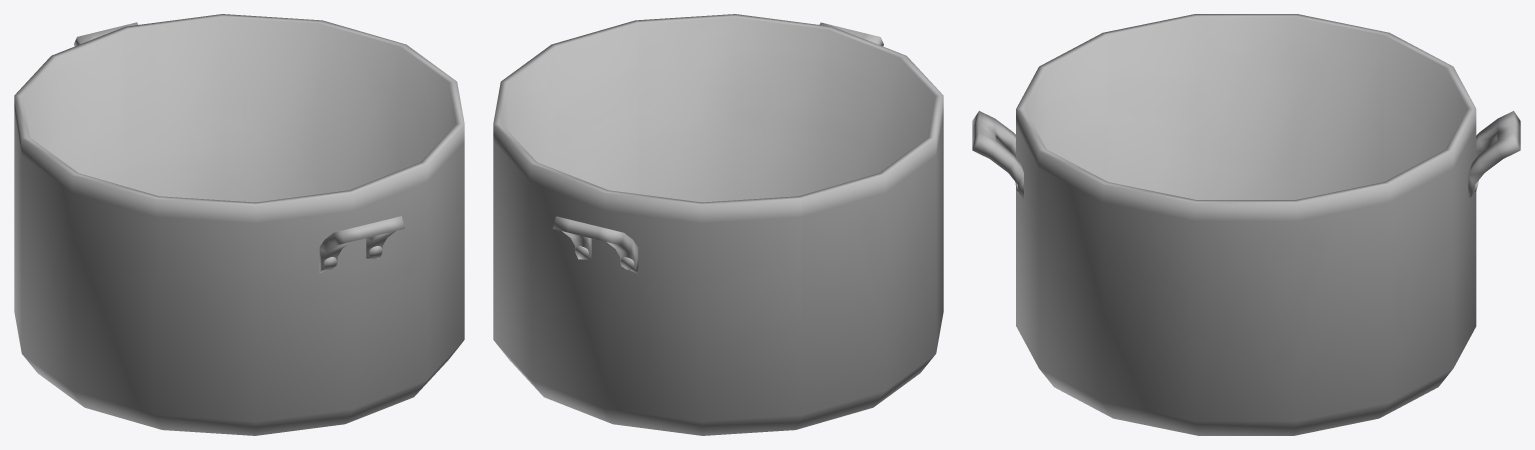
Rendered from SmallPot.fbx.
3 views of the same model, side by side, from view 1: azimuth 30°, elevation 25°; view 2: azimuth 150°, elevation 25°; view 3: azimuth 270°, elevation 25° (orthographic).
Visible parts, largest first — view 1: pot.005; view 2: pot.005; view 3: pot.005.
Part boxes in pixels (bbox=[...]): pot.005: bbox=[14, 14, 464, 435]; pot.005: bbox=[493, 14, 943, 435]; pot.005: bbox=[972, 14, 1520, 435].
Size of the model in its own units: 553 by 347 by 676.
